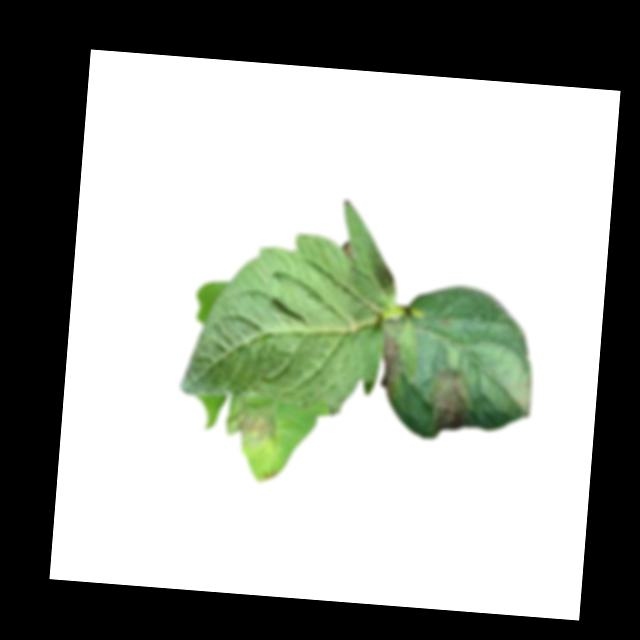Late_blight: (426, 366, 477, 439), (223, 397, 280, 452), (379, 330, 405, 400), (369, 258, 399, 298), (341, 238, 354, 258)
